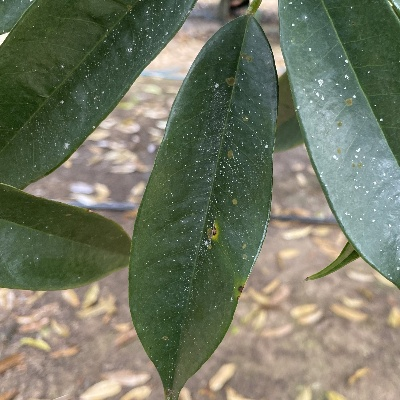Leaf_Phomopsis: (126, 5, 280, 400)
